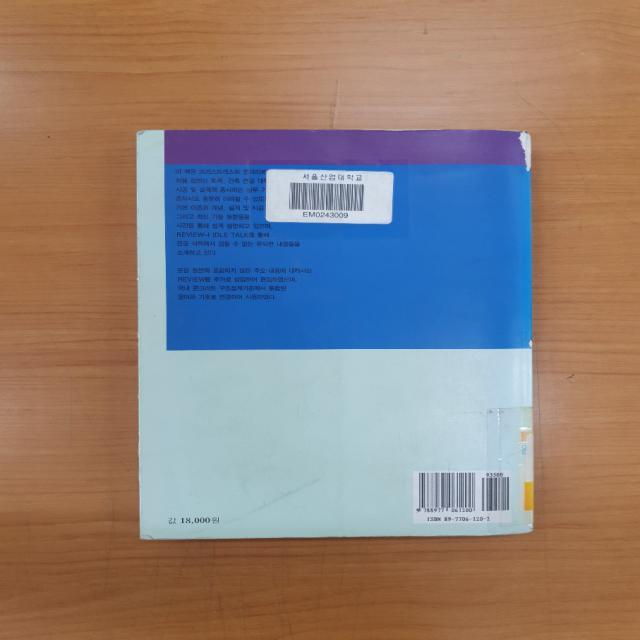Ripped: (513, 127, 534, 176)
Wornout: (344, 126, 447, 138), (136, 530, 192, 543), (132, 125, 166, 142), (518, 334, 537, 353)
